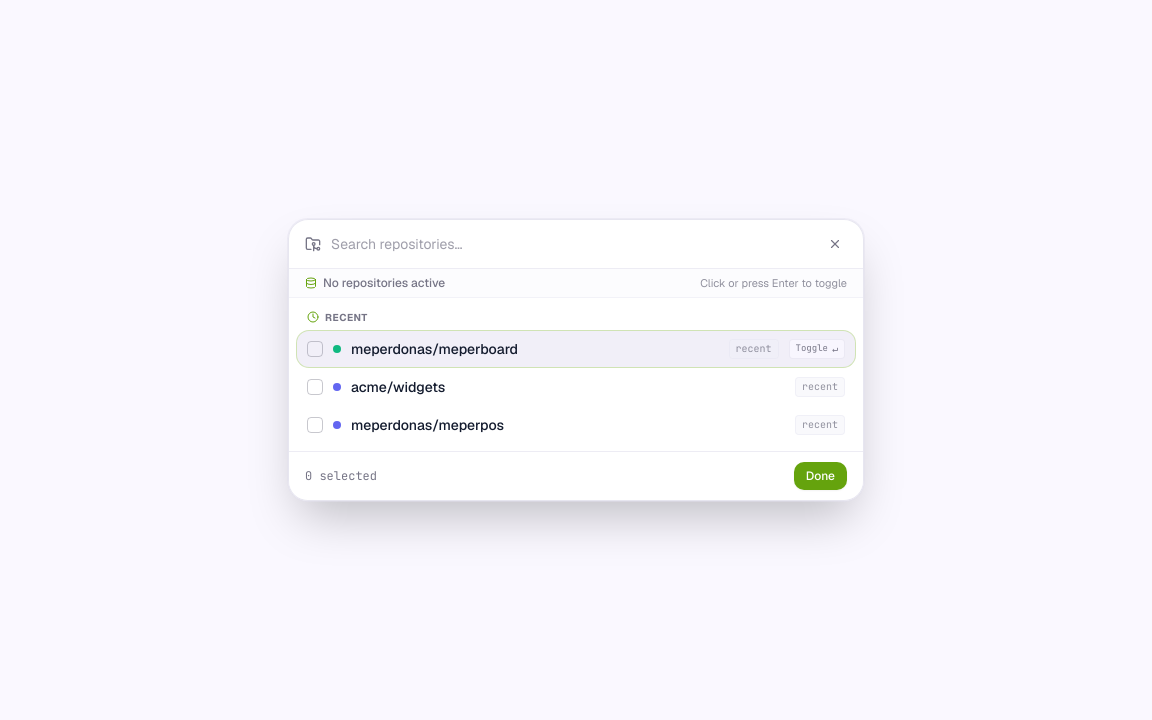
Scenario: RepoSwitcher › filters repos with fuzzy search by owner/name
Expected: the option "acme/widgets recent" is shown, 307,377 -> 845,397
Step 1. Type "widgets" into the dropdown → x=572, y=244, box 331,232 -> 813,256
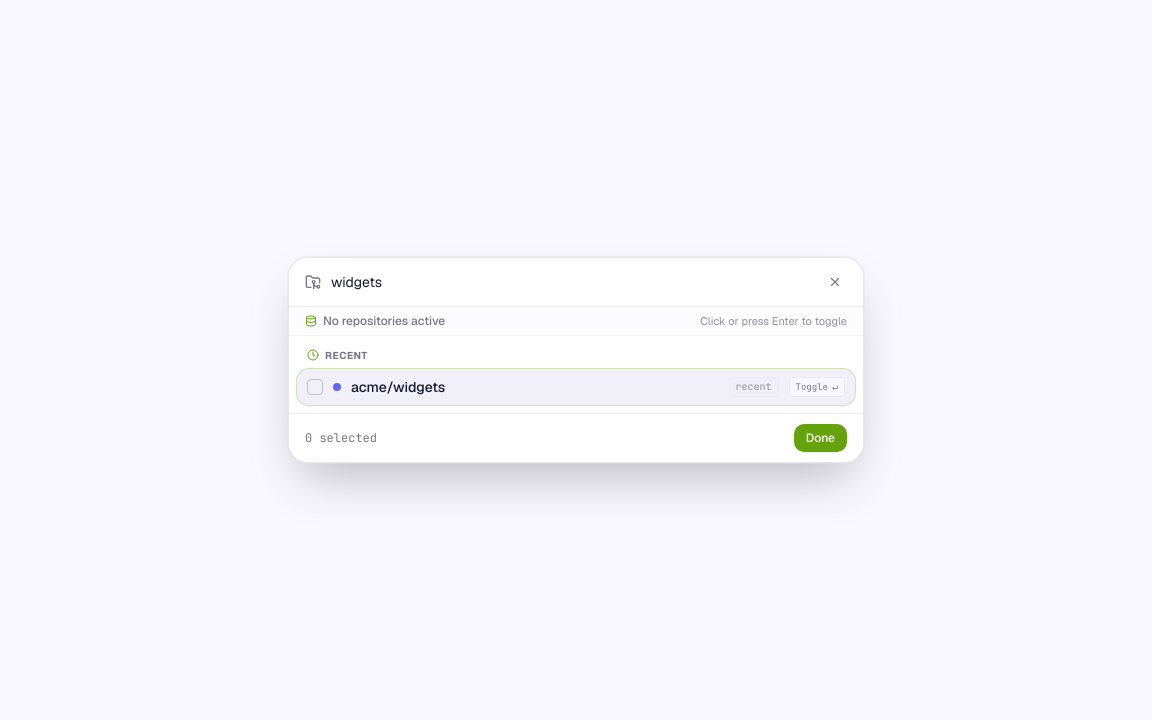
Expected: the option "acme/widgets recent Toggle ↵" is shown, 297,369 -> 855,405
Result: the option "meperdonas/meperboard" is gone
